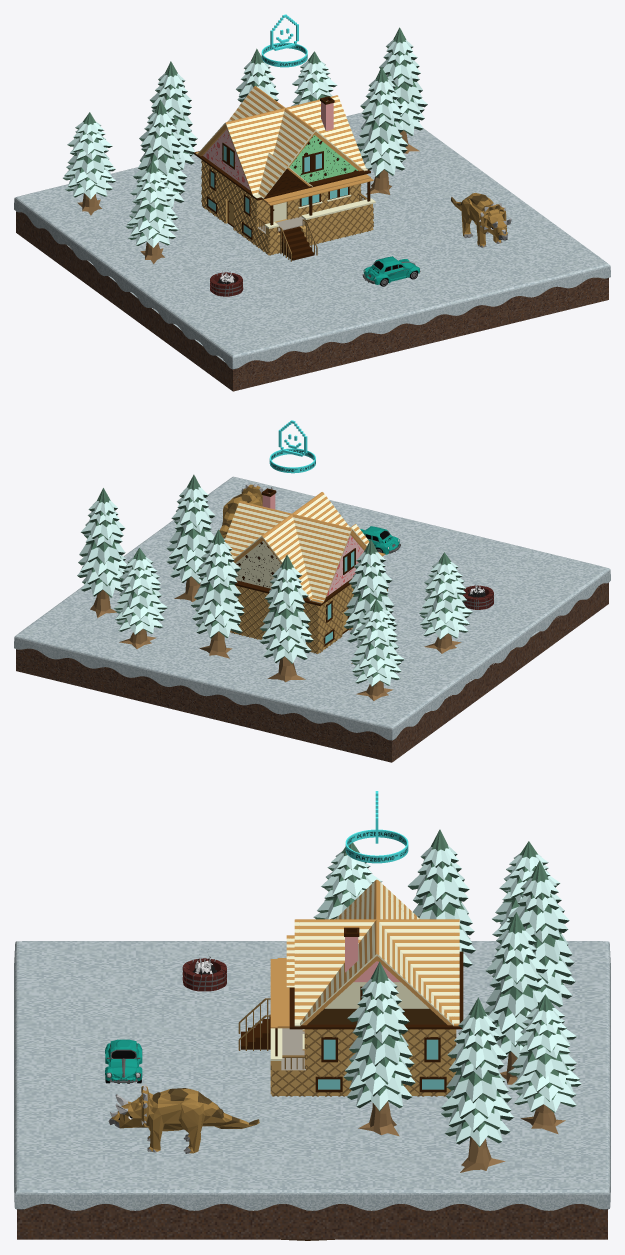
The picture shows the model from 3 angles, top to bottom: view 1: azimuth 30°, elevation 25°; view 2: azimuth 150°, elevation 25°; view 3: azimuth 270°, elevation 25°; orthographic projection. The views are drawn at different scales.
Parts seen in each view (by area): view 1: Cube.003, Cube.1102, ANIMAL_Triceratops, VEHICLES_VOLKSWAGEN, TYPE_PREMIUM, OBJRANDOM_CAMPFIRE; view 2: Cube.003, Cube.1102, TYPE_PREMIUM, ANIMAL_Triceratops, VEHICLES_VOLKSWAGEN, OBJRANDOM_CAMPFIRE; view 3: Cube.003, Cube.1102, ANIMAL_Triceratops, VEHICLES_VOLKSWAGEN, OBJRANDOM_CAMPFIRE, TYPE_PREMIUM.
Part boxes in pixels (x1,y1,x2,y2): Cube.003: (14, 27, 610, 391); Cube.1102: (193, 86, 375, 261); ANIMAL_Triceratops: (451, 193, 511, 247); VEHICLES_VOLKSWAGEN: (362, 256, 420, 286); TYPE_PREMIUM: (261, 14, 307, 67); OBJRANDOM_CAMPFIRE: (210, 271, 243, 296); Cube.003: (14, 474, 610, 762); Cube.1102: (224, 488, 387, 653); TYPE_PREMIUM: (269, 420, 315, 473); ANIMAL_Triceratops: (219, 484, 272, 538); VEHICLES_VOLKSWAGEN: (360, 526, 400, 554); OBJRANDOM_CAMPFIRE: (463, 585, 493, 609); Cube.003: (14, 829, 610, 1239); Cube.1102: (238, 879, 463, 1096); ANIMAL_Triceratops: (108, 1084, 259, 1153); VEHICLES_VOLKSWAGEN: (105, 1039, 142, 1083); OBJRANDOM_CAMPFIRE: (182, 956, 226, 991); TYPE_PREMIUM: (345, 791, 408, 863).
Size of the model in its own units: 4040 by 2534 by 4040.
Materials: 36 (5 with a texture image).
